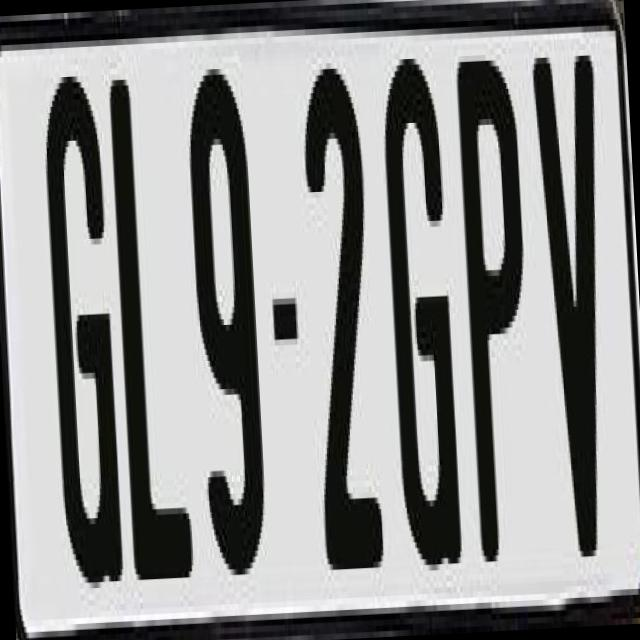2: (300, 67, 392, 606)
9: (182, 61, 272, 576)
G: (37, 58, 128, 578), (377, 51, 465, 578)
L: (108, 77, 204, 580)
P: (452, 53, 540, 586)
V: (532, 49, 623, 576)
